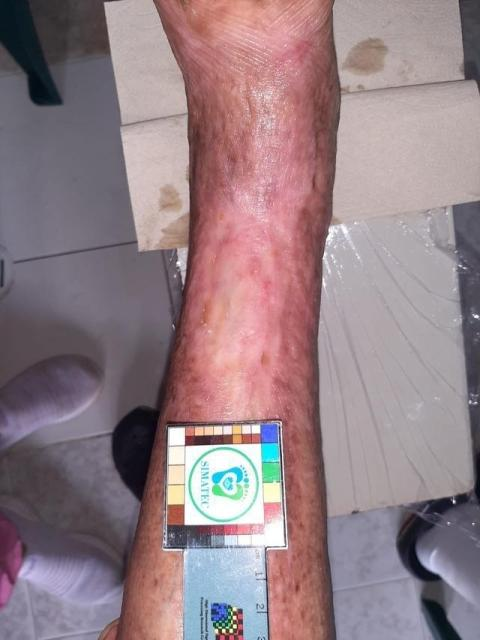wound: (262, 278, 271, 311)
